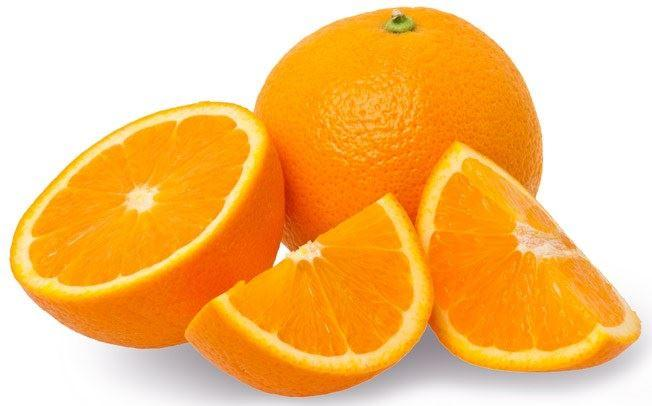orange: (11, 102, 282, 360), (231, 6, 568, 175), (409, 140, 642, 376), (191, 192, 436, 406)
